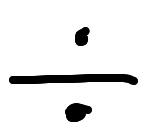div: (9, 27, 138, 122)
